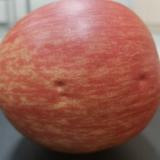apple: (1, 1, 160, 155)
